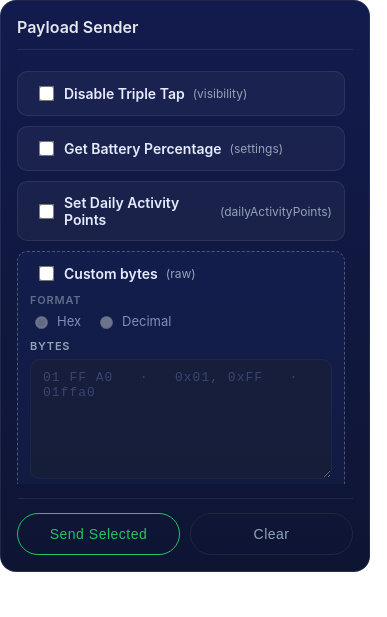
Scenario: DevTools › Custom Bytes › is ignored while switched off
(page scrolled)
Step 1. Click the checkbox labelled "Custom bytes (raw)" → coordinates (46, 274), box [39,266,54,281]
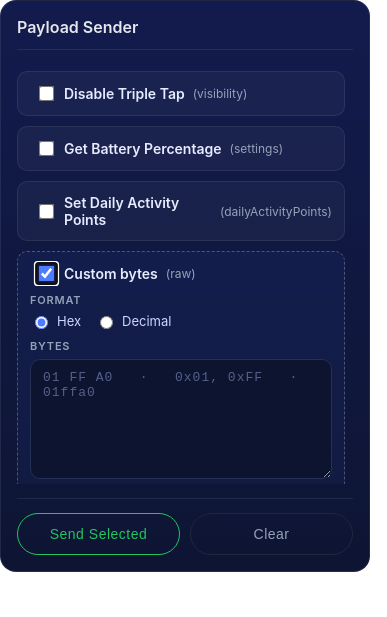
Step 2. Type "01" into the text box labelled "Bytes" → coordinates (181, 419), box [30,359,332,479]
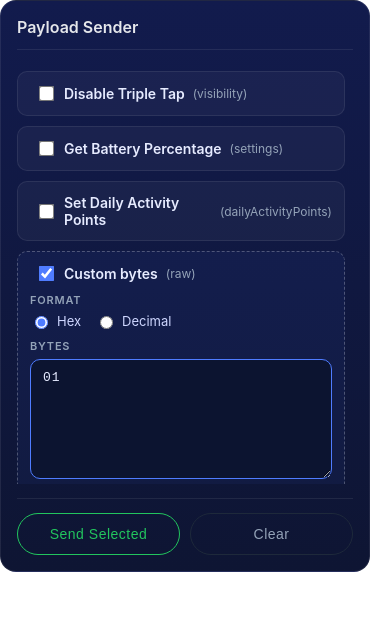
Step 3. Click the checkbox labelled "Custom bytes (raw)" → coordinates (46, 274), box [39,266,54,281]
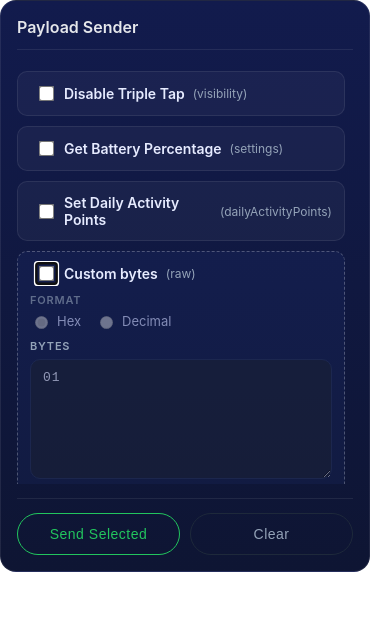
Step 4. Click the button "Send Selected" → coordinates (98, 534), box [17,513,180,555]
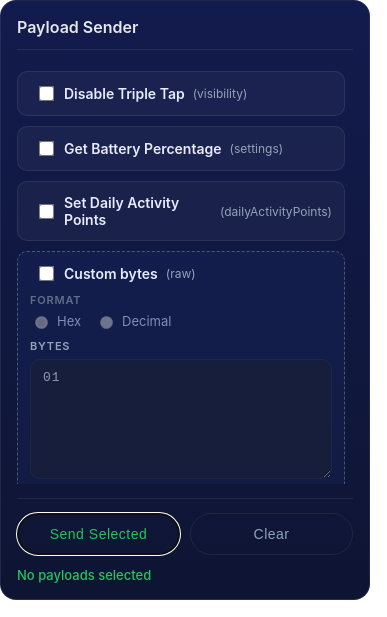
Result: the message reads "No payloads selected" at [17,567,151,583]
